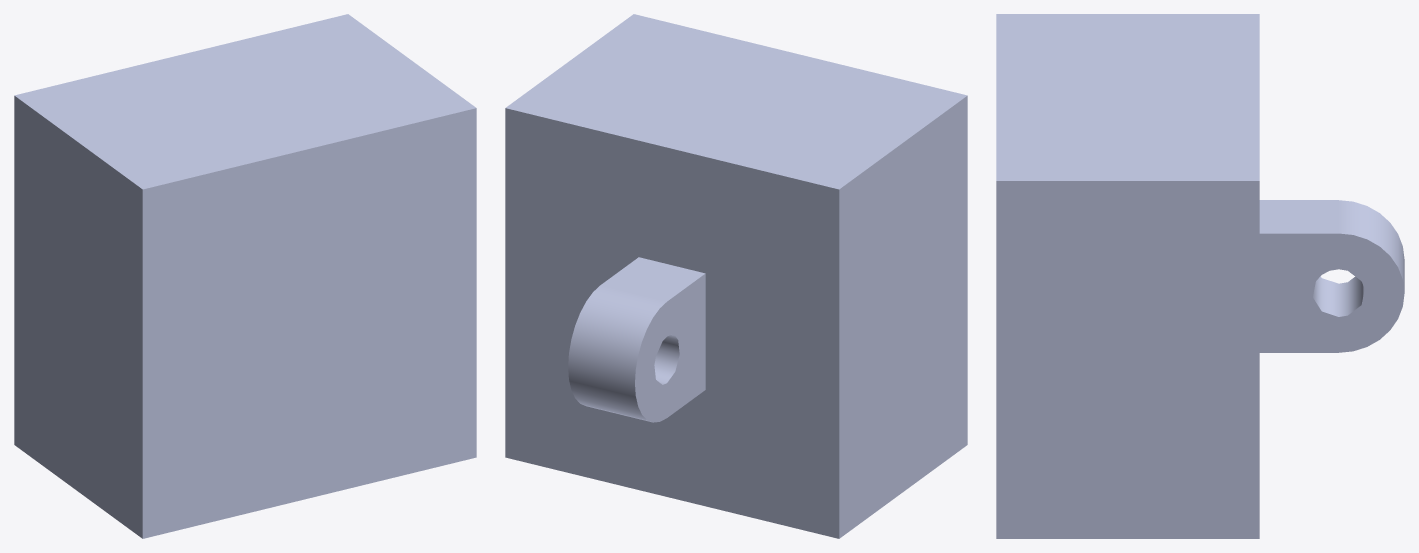
The model's file is rod_bas.obj.
3 renders of one model, left to right at view 1: azimuth 30°, elevation 25°; view 2: azimuth 150°, elevation 25°; view 3: azimuth 270°, elevation 25°, orthographic. The views are drawn at different scales.
Visible parts, largest first — view 1: mesh 1 rod_bas; view 2: mesh 1 rod_bas; view 3: mesh 1 rod_bas.
Boxes of the visible parts, bbox=[...] form: mesh 1 rod_bas: bbox=[14, 14, 476, 538]; mesh 1 rod_bas: bbox=[505, 14, 967, 538]; mesh 1 rod_bas: bbox=[996, 14, 1404, 538].
Size of the model in its own units: 0.015 by 0.015 by 0.0155.
